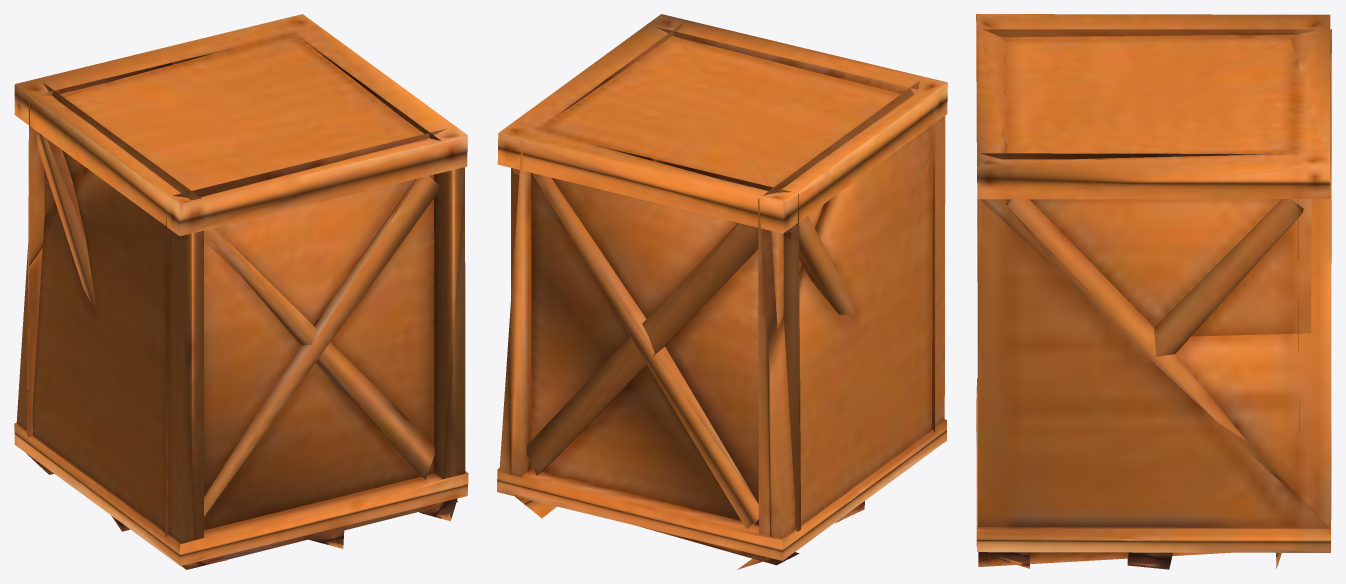
Rendered from classic-wood-crate.glb.
The picture shows the model from 3 angles, left to right: view 1: azimuth 30°, elevation 25°; view 2: azimuth 150°, elevation 25°; view 3: azimuth 270°, elevation 25°; orthographic projection. The views are drawn at different scales.
Bounding box in the file's own units: 0.7856 × 0.9911 × 0.7755.
1 material, 1 textured.
